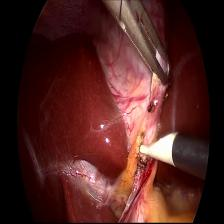Grasper: (100, 0, 172, 90)
Hook: (137, 129, 180, 168)
